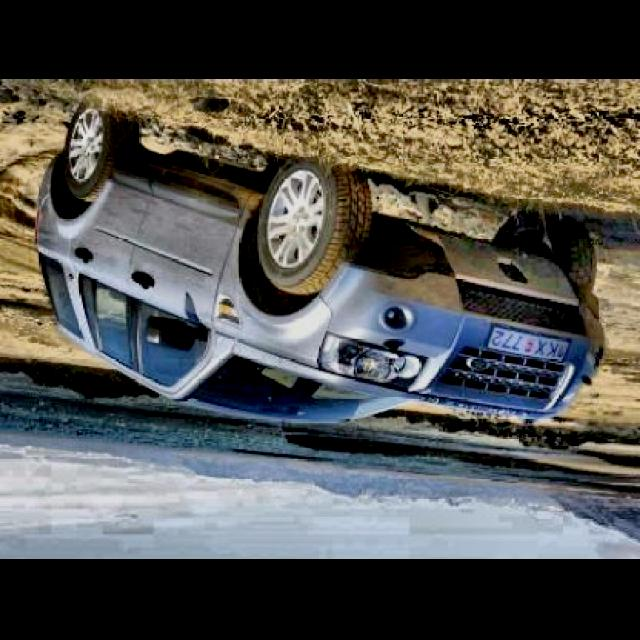silver: (35, 107, 604, 426)
